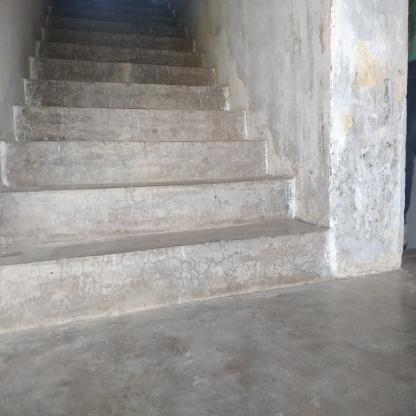stairs: (3, 87, 230, 333)
